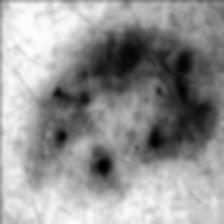Potentially Malignant Skin Tumors: (41, 32, 220, 176)
